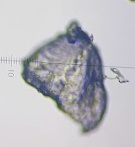microplastic: (20, 19, 109, 137), (126, 1, 135, 3)
